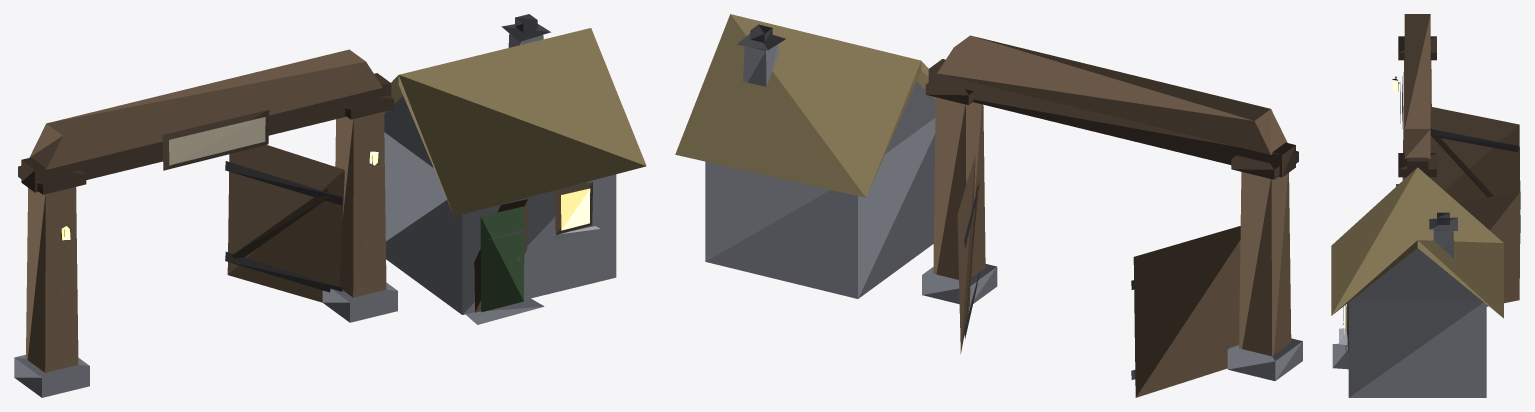
The model's file is bree_gate_watch_lod1.glb.
3 views of the same model, side by side, from view 1: azimuth 30°, elevation 25°; view 2: azimuth 150°, elevation 25°; view 3: azimuth 270°, elevation 25° (orthographic). The views are drawn at different scales.
Visible parts, largest first — view 1: bree_gate_watch_lod1; view 2: bree_gate_watch_lod1; view 3: bree_gate_watch_lod1.
Boxes of the visible parts, x1,y1,x2,y2 form: bree_gate_watch_lod1: (14, 14, 646, 397); bree_gate_watch_lod1: (675, 14, 1302, 397); bree_gate_watch_lod1: (1331, 14, 1520, 397).
Size of the model in its own units: 11.7 by 5 by 4.39.
